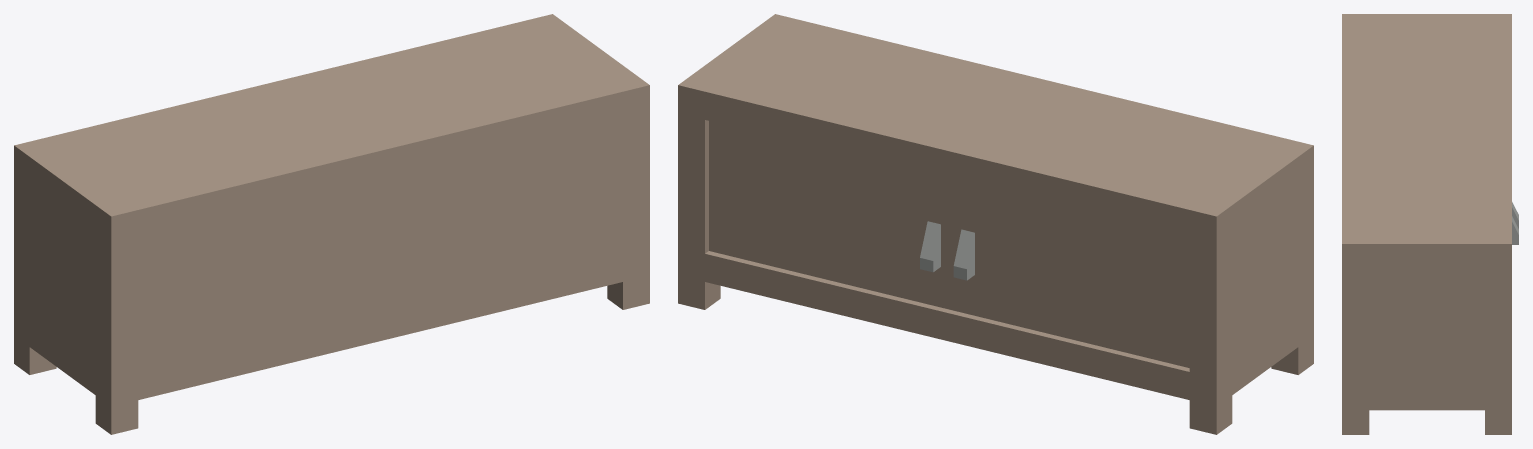
Rendered from cabinet_television_doors.glb.
The picture shows the model from 3 angles, left to right: view 1: azimuth 30°, elevation 25°; view 2: azimuth 150°, elevation 25°; view 3: azimuth 270°, elevation 25°; orthographic projection. The views are drawn at different scales.
Parts seen in each view (by area): view 1: cabinet_television_doors; view 2: cabinet_television_doors; view 3: cabinet_television_doors.
Part boxes in pixels (x1,y1,x2,y2): cabinet_television_doors: (14,14,649,434); cabinet_television_doors: (678,14,1313,434); cabinet_television_doors: (1342,14,1518,434).
Size of the model in its own units: 1.6 by 0.62 by 0.52.
